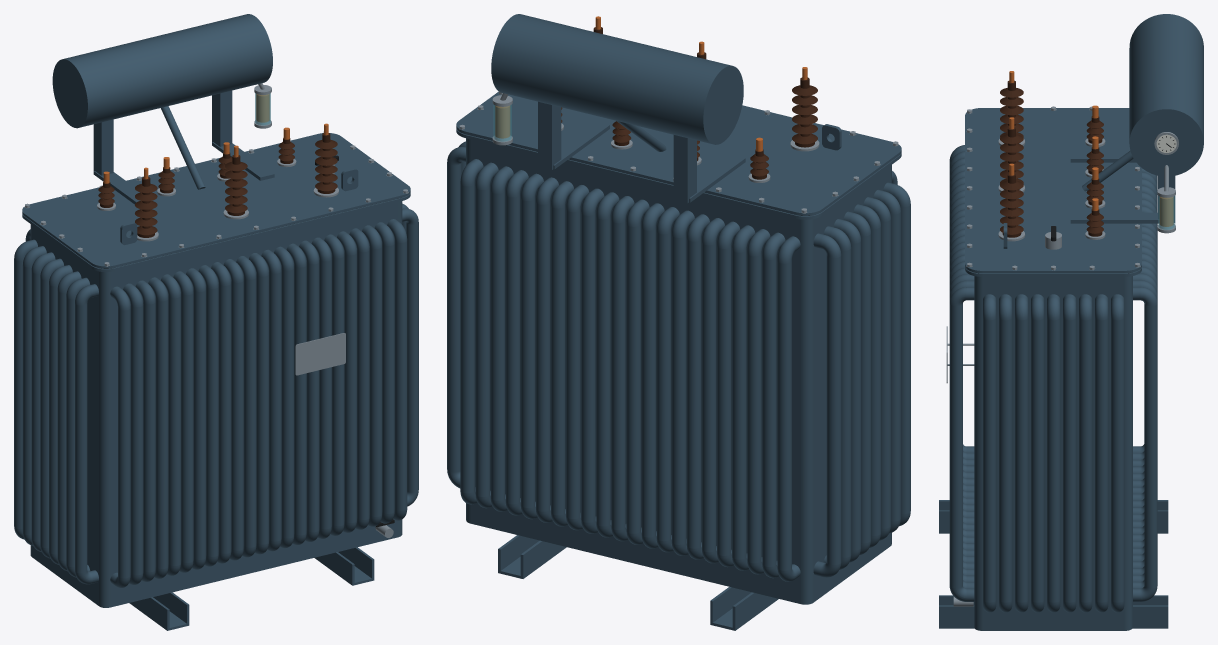
Rendered from transformer.glb.
The picture shows the model from 3 angles, left to right: view 1: azimuth 30°, elevation 25°; view 2: azimuth 150°, elevation 25°; view 3: azimuth 270°, elevation 25°; orthographic projection. The views are drawn at different scales.
Parts seen in each view (by area): view 1: tank_body, tank_cover, conservator, tube_0_3, tube_0_22, tube_0_1, tube_0_10, tube_0_8, tube_3_0, tube_0_0, tube_0_7, tube_0_12 (+34 smaller); view 2: tank_body, conservator, tank_cover, tube_3_7, tube_2_17, tube_2_6, tube_2_7, tube_2_0, tube_2_13, tube_2_2, tube_2_3, tube_2_20 (+31 smaller); view 3: tank_cover, tank_body, conservator, tube_0_22, tube_2_21, tube_1_0, tube_1_1, tube_1_2, tube_1_3, tube_1_4, tube_1_5, tube_1_6 (+14 smaller).
Part boxes in pixels (x1=…): tank_body: x1=30, y1=201, x2=402, y2=607; tank_cover: x1=22, y1=133, x2=410, y2=268; conservator: x1=52, y1=14, x2=272, y2=128; tube_0_3: x1=148, y1=277, x2=168, y2=578; tube_0_22: x1=387, y1=219, x2=407, y2=520; tube_0_1: x1=123, y1=283, x2=143, y2=584; tube_0_10: x1=236, y1=256, x2=256, y2=557; tube_0_8: x1=211, y1=262, x2=231, y2=563; tube_3_0: x1=75, y1=284, x2=98, y2=584; tube_0_0: x1=110, y1=286, x2=130, y2=587; tube_0_7: x1=198, y1=265, x2=218, y2=566; tube_0_12: x1=261, y1=249, x2=281, y2=551; tank_body: x1=466, y1=138, x2=891, y2=604; conservator: x1=491, y1=14, x2=743, y2=144; tank_cover: x1=456, y1=91, x2=901, y2=215; tube_3_7: x1=813, y1=233, x2=841, y2=577; tube_2_17: x1=520, y1=173, x2=543, y2=519; tube_2_6: x1=686, y1=214, x2=709, y2=559; tube_2_7: x1=671, y1=210, x2=694, y2=555; tube_2_0: x1=777, y1=236, x2=800, y2=581; tube_2_13: x1=581, y1=188, x2=604, y2=533; tube_2_2: x1=747, y1=229, x2=770, y2=574; tube_2_3: x1=732, y1=225, x2=755, y2=570; tube_2_20: x1=475, y1=162, x2=498, y2=508; tank_cover: x1=965, y1=108, x2=1141, y2=273; tank_body: x1=974, y1=276, x2=1132, y2=630; conservator: x1=1129, y1=14, x2=1203, y2=176; tube_0_22: x1=949, y1=287, x2=974, y2=601; tube_2_21: x1=1133, y1=287, x2=1157, y2=601; tube_1_0: x1=983, y1=294, x2=996, y2=612; tube_1_1: x1=999, y1=294, x2=1012, y2=612; tube_1_2: x1=1015, y1=294, x2=1028, y2=612; tube_1_3: x1=1031, y1=294, x2=1044, y2=612; tube_1_4: x1=1047, y1=294, x2=1060, y2=612; tube_1_5: x1=1063, y1=294, x2=1076, y2=612; tube_1_6: x1=1079, y1=294, x2=1092, y2=612.
Size of the model in its own units: 1.56 by 2.13 by 0.9951.
